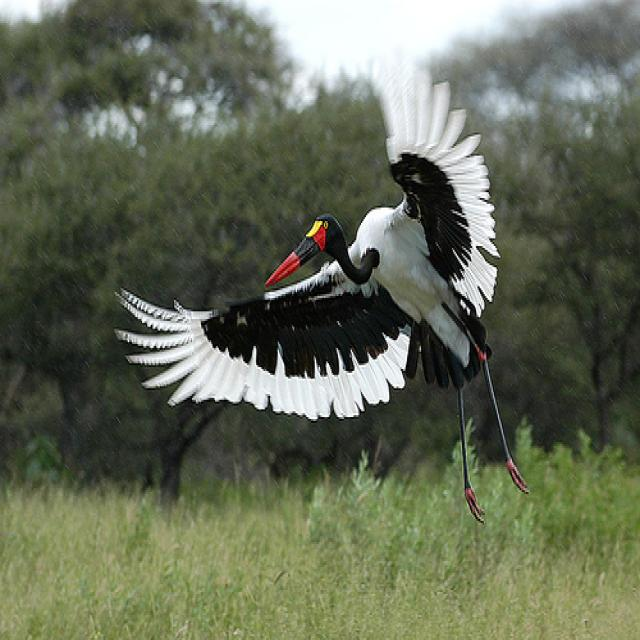bird: (112, 40, 530, 526)
